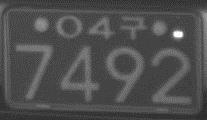0: (55, 13, 83, 39)
2: (151, 46, 193, 105)
4: (60, 45, 100, 102), (87, 14, 116, 41)
7: (14, 42, 54, 100)
9: (105, 45, 144, 104)
구: (119, 14, 148, 40)
